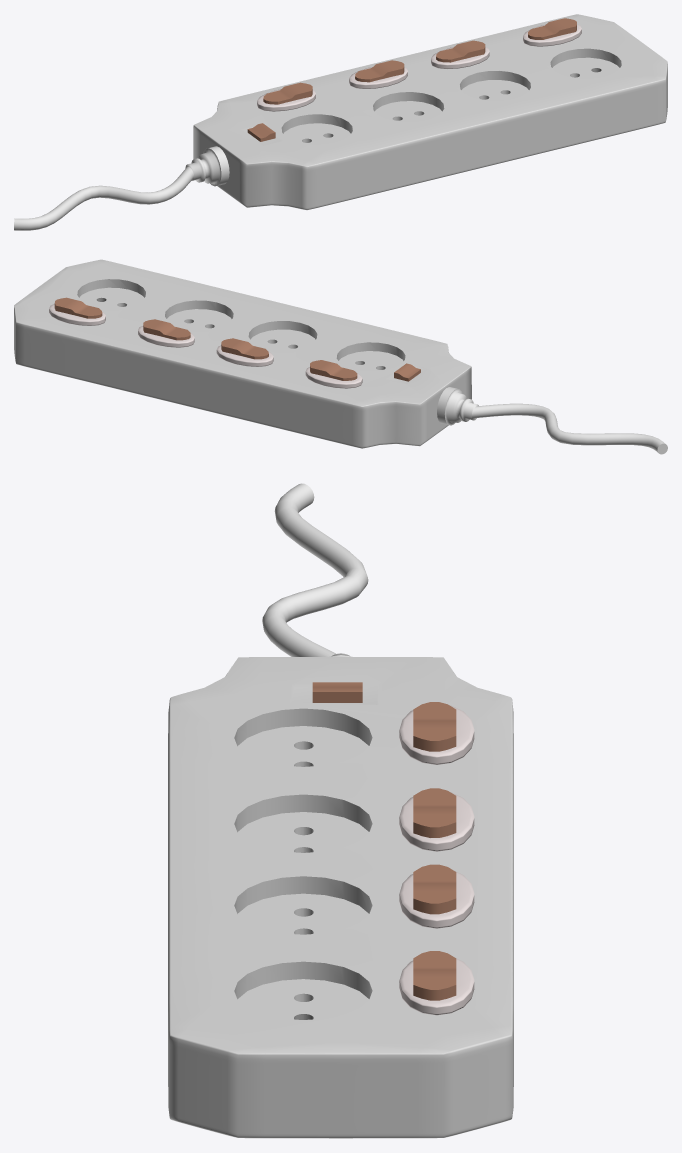
The model's file is multi-outlet.fbx.
The picture shows the model from 3 angles, top to bottom: view 1: azimuth 30°, elevation 25°; view 2: azimuth 150°, elevation 25°; view 3: azimuth 270°, elevation 25°; orthographic projection. The views are drawn at different scales.
Parts seen in each view (by area): view 1: polySurface2, pCylinder10, pCylinder9, pCube3, pCube5, pCube4, pCube2, pCylinder8, pCylinder7, pCylinder6, pCylinder5, pCube6; view 2: polySurface2, pCylinder10, pCylinder9, pCube3, pCube2, pCube5, pCube4, pCylinder7, pCylinder8, pCylinder5, pCylinder6, pCube6; view 3: polySurface2, pCylinder10, pCube3, pCube4, pCube5, pCube2, pCylinder5, pCylinder6, pCylinder7, pCylinder8, pCube6.
Boxes of the visible parts, left/top/right/bottom form: polySurface2: left=193, top=14, right=667, bottom=210; pCylinder10: left=14, top=167, right=193, bottom=230; pCylinder9: left=185, top=146, right=229, bottom=186; pCube3: left=436, top=40, right=485, bottom=62; pCube5: left=355, top=60, right=404, bottom=82; pCube4: left=263, top=82, right=312, bottom=104; pCube2: left=528, top=18, right=576, bottom=39; pCylinder8: left=257, top=89, right=315, bottom=111; pCylinder7: left=349, top=67, right=407, bottom=88; pCylinder6: left=431, top=47, right=489, bottom=68; pCylinder5: left=523, top=24, right=581, bottom=46; pCube6: left=247, top=123, right=275, bottom=141; polySurface2: left=14, top=259, right=471, bottom=448; pCylinder10: left=472, top=403, right=667, bottom=454; pCylinder9: left=437, top=387, right=478, bottom=425; pCube3: left=143, top=319, right=190, bottom=340; pCube2: left=54, top=297, right=102, bottom=318; pCube5: left=221, top=338, right=268, bottom=359; pCube4: left=310, top=360, right=357, bottom=380; pCylinder7: left=216, top=345, right=273, bottom=366; pCylinder8: left=305, top=367, right=362, bottom=388; pCylinder5: left=49, top=304, right=105, bottom=325; pCylinder6: left=138, top=326, right=194, bottom=347; pCube6: left=394, top=363, right=420, bottom=381; polySurface2: left=168, top=657, right=513, bottom=1138; pCylinder10: left=262, top=483, right=368, bottom=656; pCube3: left=413, top=864, right=456, bottom=914; pCube4: left=413, top=702, right=456, bottom=751; pCube5: left=413, top=788, right=456, bottom=837; pCube2: left=413, top=951, right=456, bottom=1000; pCylinder5: left=399, top=958, right=474, bottom=1015; pCylinder6: left=399, top=871, right=474, bottom=928; pCylinder7: left=399, top=792, right=474, bottom=851; pCylinder8: left=399, top=705, right=474, bottom=764; pCube6: left=312, top=682, right=362, bottom=702.
Bounding box in the file's own units: 20.6 × 1.78 × 5.
